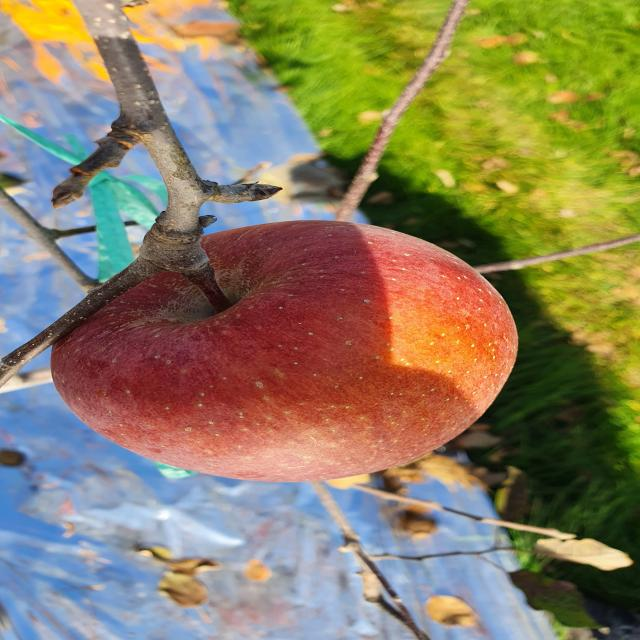fresh: (38, 210, 539, 494)
